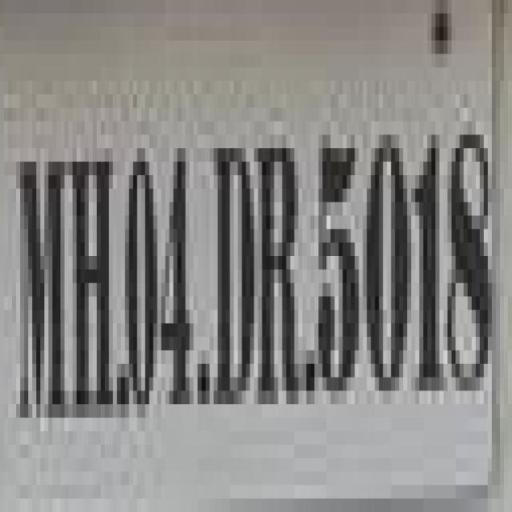number plate: (8, 0, 512, 485)
